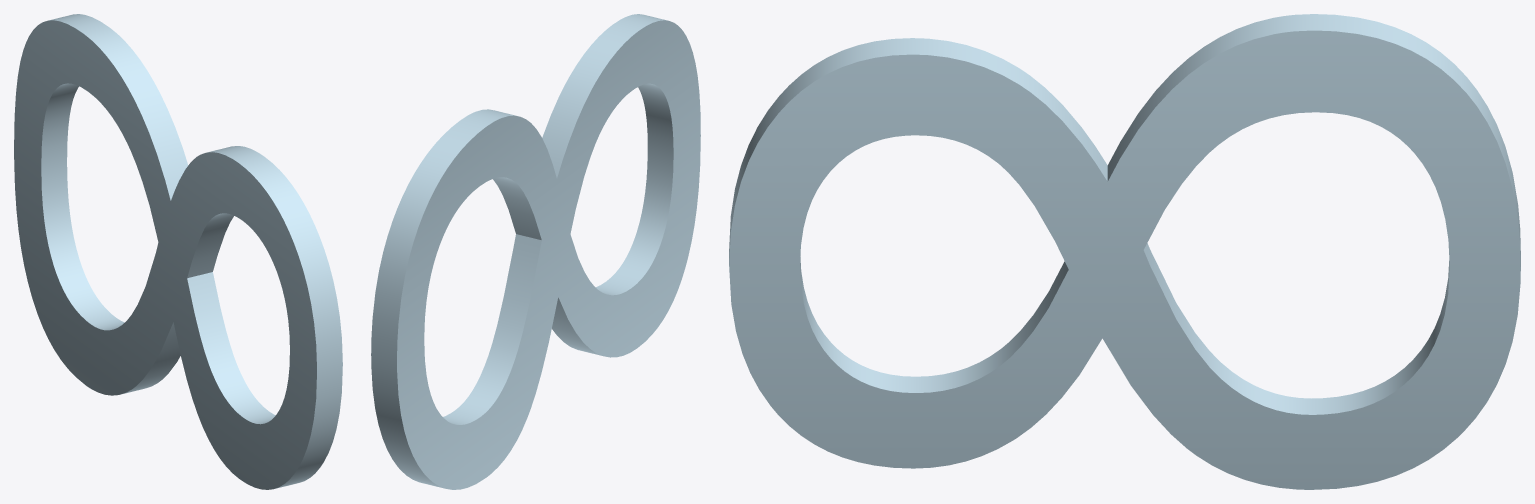
The model's file is Number_8.gltf.
3 views of the same model, side by side, from view 1: azimuth 30°, elevation 25°; view 2: azimuth 150°, elevation 25°; view 3: azimuth 270°, elevation 25° (orthographic). The views are drawn at different scales.
Parts seen in each view (by area): view 1: Sub_4_Cell_1_2_Number_8; view 2: Sub_4_Cell_1_2_Number_8; view 3: Sub_4_Cell_1_2_Number_8.
Part boxes in pixels (x1,y1,x2,y2): Sub_4_Cell_1_2_Number_8: [14, 14, 342, 489]; Sub_4_Cell_1_2_Number_8: [371, 14, 700, 489]; Sub_4_Cell_1_2_Number_8: [729, 14, 1520, 489].
Bounding box in the file's own units: 0.00176 × 0.0166 × 0.0259.
